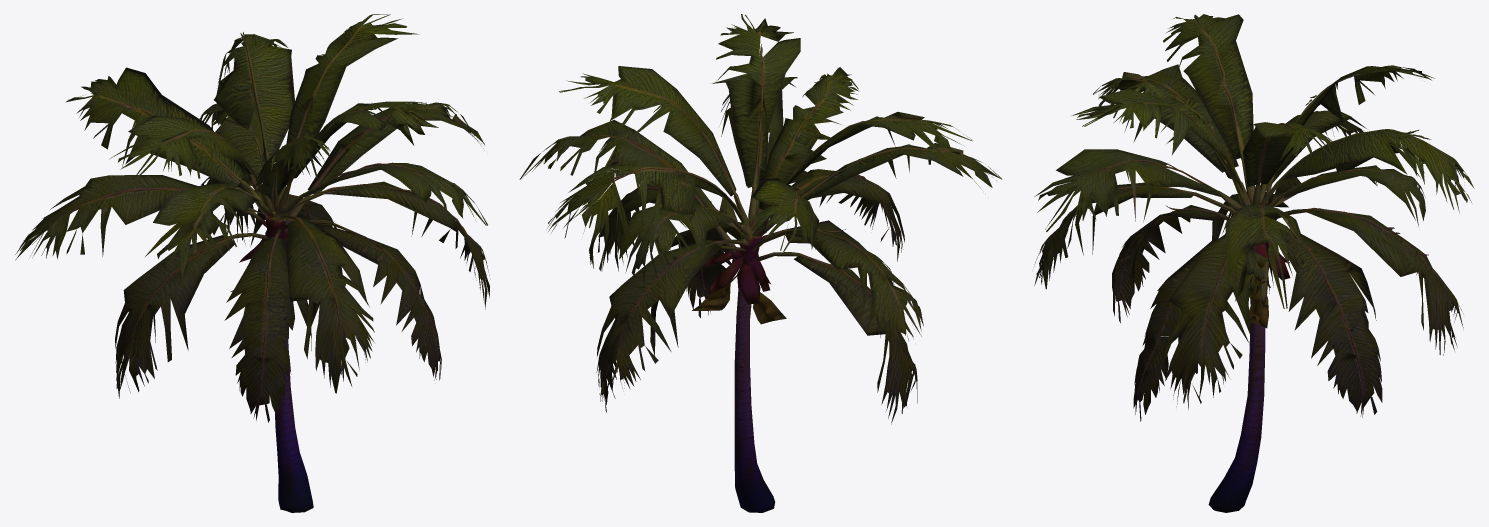
Rendered from vegetation.coconut-palm-01.lod0.glb.
3 renders of one model, left to right at view 1: azimuth 30°, elevation 25°; view 2: azimuth 150°, elevation 25°; view 3: azimuth 270°, elevation 25°, orthographic.
Parts seen in each view (by area): view 1: vegetation.coconut-palm-01_LOD0_00; view 2: vegetation.coconut-palm-01_LOD0_00; view 3: vegetation.coconut-palm-01_LOD0_00.
Part boxes in pixels (x1,y1,x2,y2): vegetation.coconut-palm-01_LOD0_00: (15,14,489,512); vegetation.coconut-palm-01_LOD0_00: (519,14,1002,512); vegetation.coconut-palm-01_LOD0_00: (1034,14,1474,512).
Bounding box in the file's own units: 9.48 × 9 × 8.44.
1 material, 1 textured.
